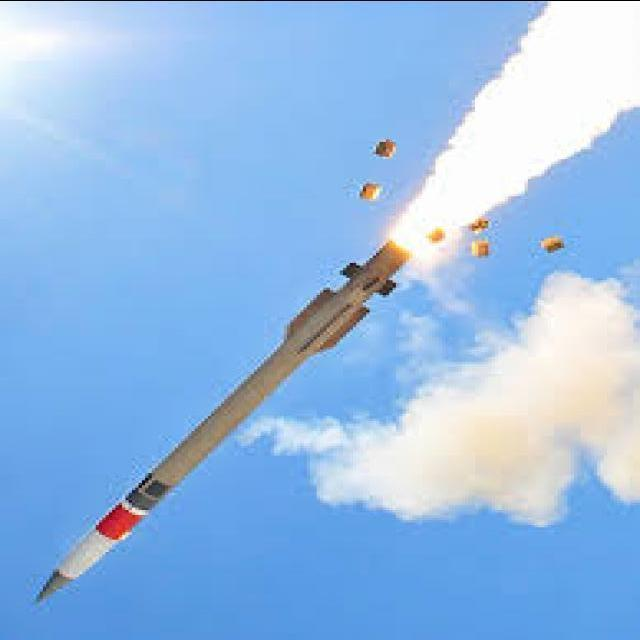missile: (34, 233, 414, 608)
